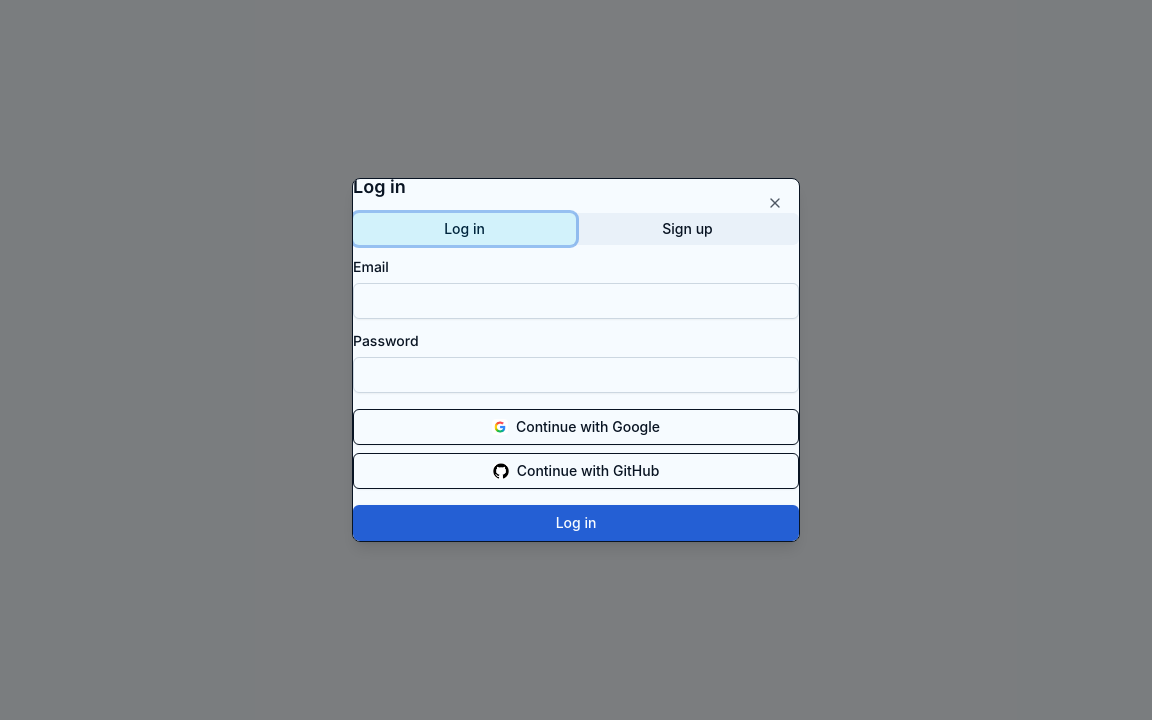
it: LoginModal › submits signup and shows auth errors
Click the button "Sign up" at (688, 229), box [576, 213, 799, 245]
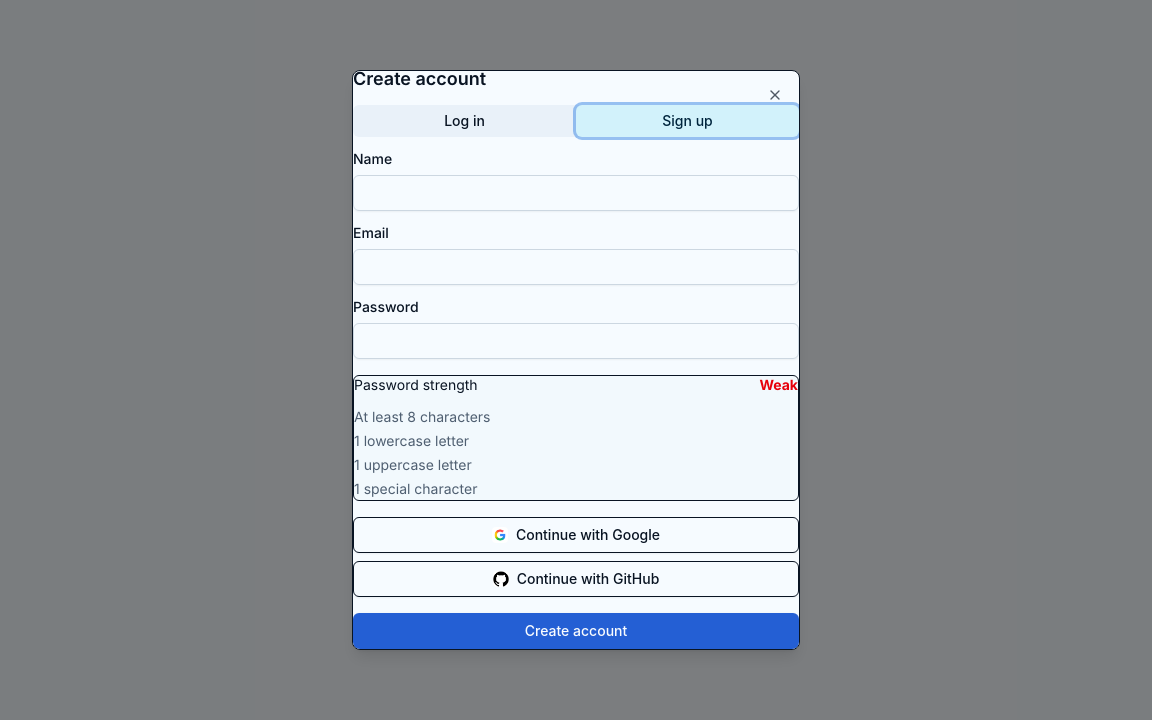
Type "Ada" into the field labelled "Name" at (576, 193), box [353, 175, 799, 211]
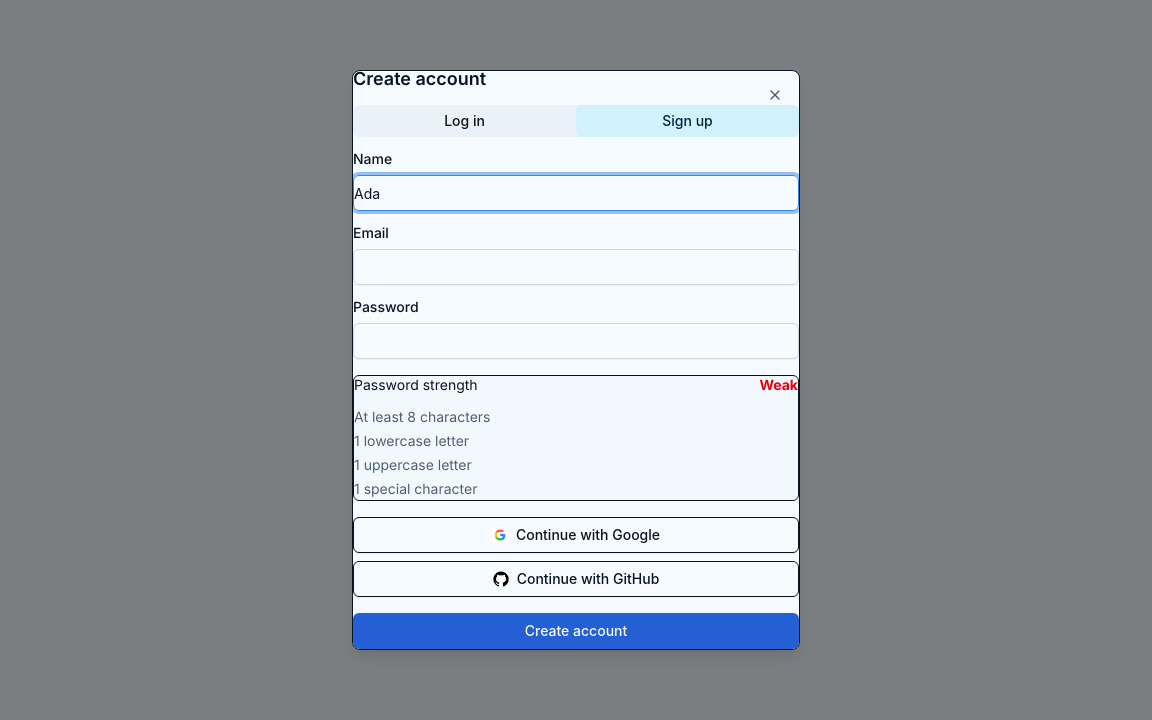
Type "invalid@example.com" into the field labelled "Email" at (576, 267), box [353, 249, 799, 285]
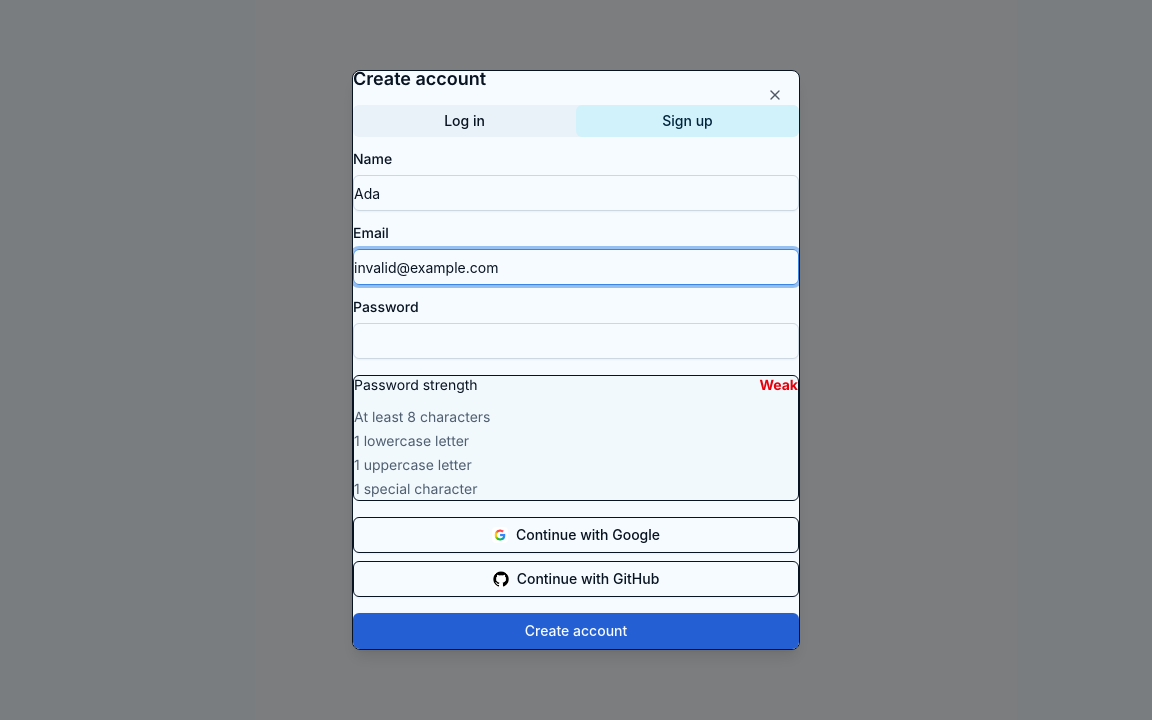
Type "Aa!12345" into the password field labelled "Password" at (576, 341), box [353, 323, 799, 359]
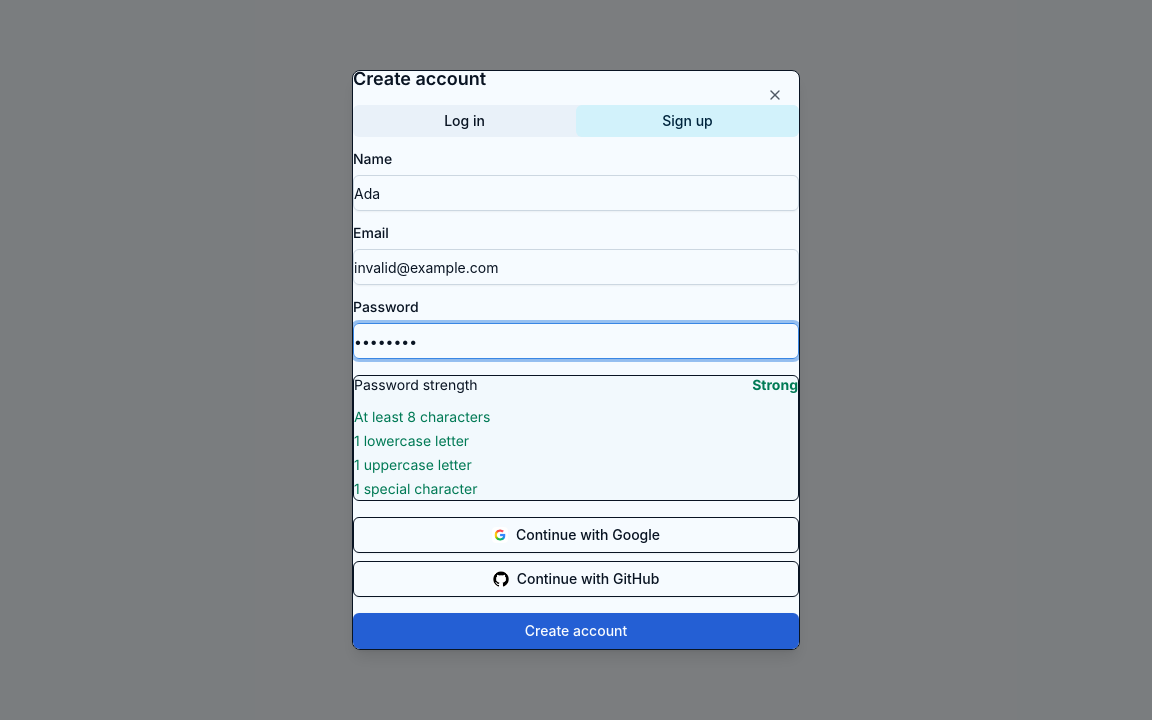
Click the button "Create account" at (576, 631), box [353, 613, 799, 649]
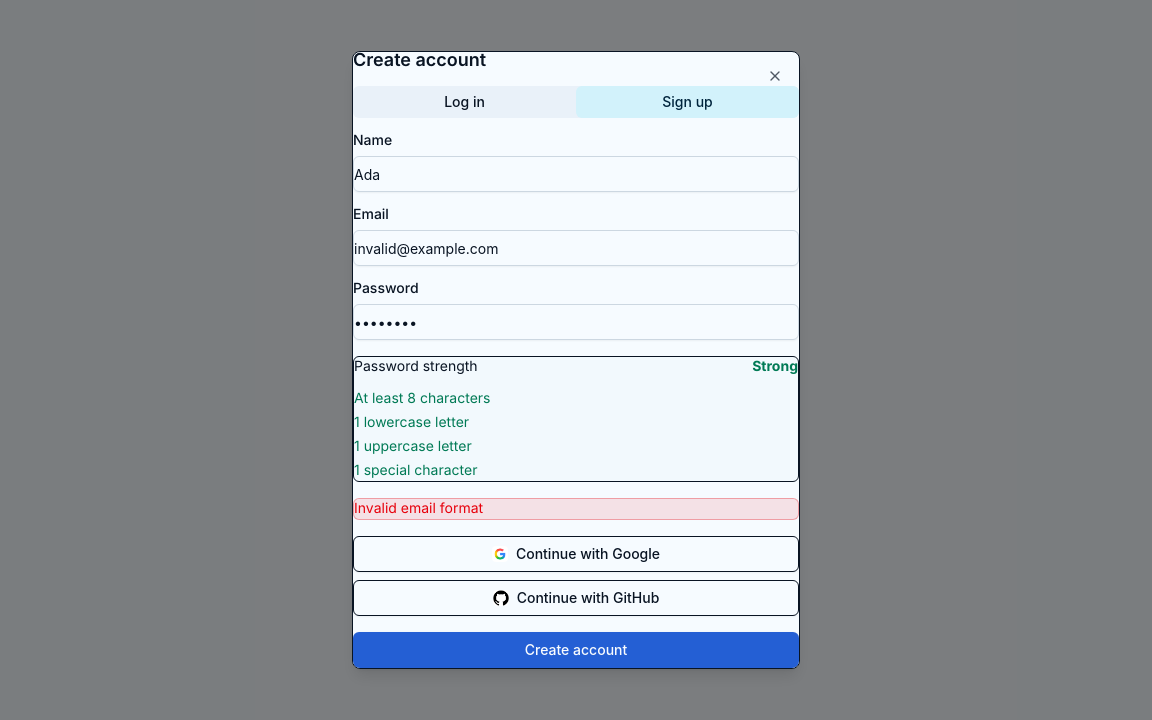
Now the text "Invalid email format" is shown, box [353, 498, 799, 520]
